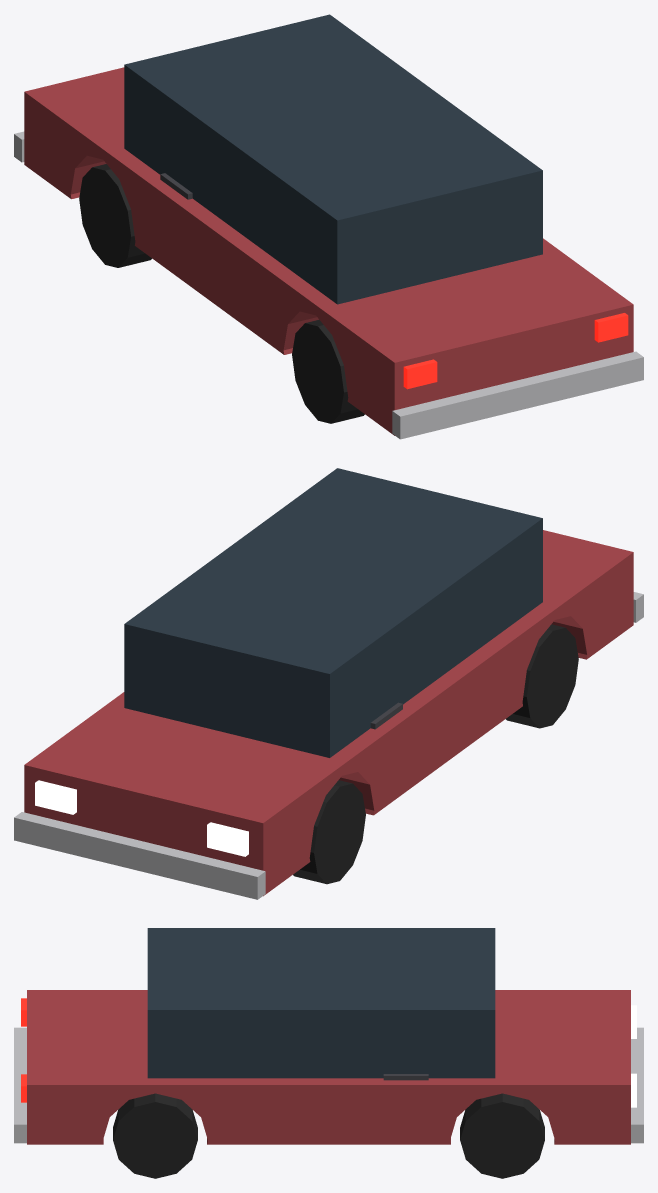
Rendered from sedan.glb.
3 views of the same model, one above another, from view 1: azimuth 30°, elevation 25°; view 2: azimuth 150°, elevation 25°; view 3: azimuth 270°, elevation 25° (orthographic). The views are drawn at different scales.
Visible parts, largest first — view 1: cabin, body, bumper_r, WHEEL_FL, WHEEL_RL, taillamp.001, taillamp; view 2: cabin, body, bumper_f, WHEEL_FL, WHEEL_RL, headlamp.001, headlamp; view 3: body, cabin, WHEEL_FR, WHEEL_RR, bumper_r, bumper_f.
Part boxes in pixels (x1,y1,x2,y2): cabin: (124, 14, 542, 304); body: (24, 67, 633, 435); bumper_r: (392, 351, 643, 439); WHEEL_FL: (79, 164, 151, 267); WHEEL_RL: (292, 319, 364, 423); taillamp.001: (594, 313, 628, 342); taillamp: (403, 359, 437, 389); cabin: (124, 468, 542, 757); body: (24, 530, 633, 896); bumper_f: (14, 812, 265, 899); WHEEL_FL: (293, 780, 365, 884); WHEEL_RL: (506, 624, 578, 728); headlamp.001: (35, 780, 76, 814); headlamp: (207, 822, 248, 856); body: (27, 990, 630, 1144); cabin: (147, 928, 495, 1078); WHEEL_FR: (460, 1093, 544, 1178); WHEEL_RR: (113, 1093, 197, 1178); bumper_r: (14, 1027, 26, 1143); bumper_f: (631, 1027, 643, 1143).
Size of the model in its own units: 1.78 by 1.4 by 4.9.
